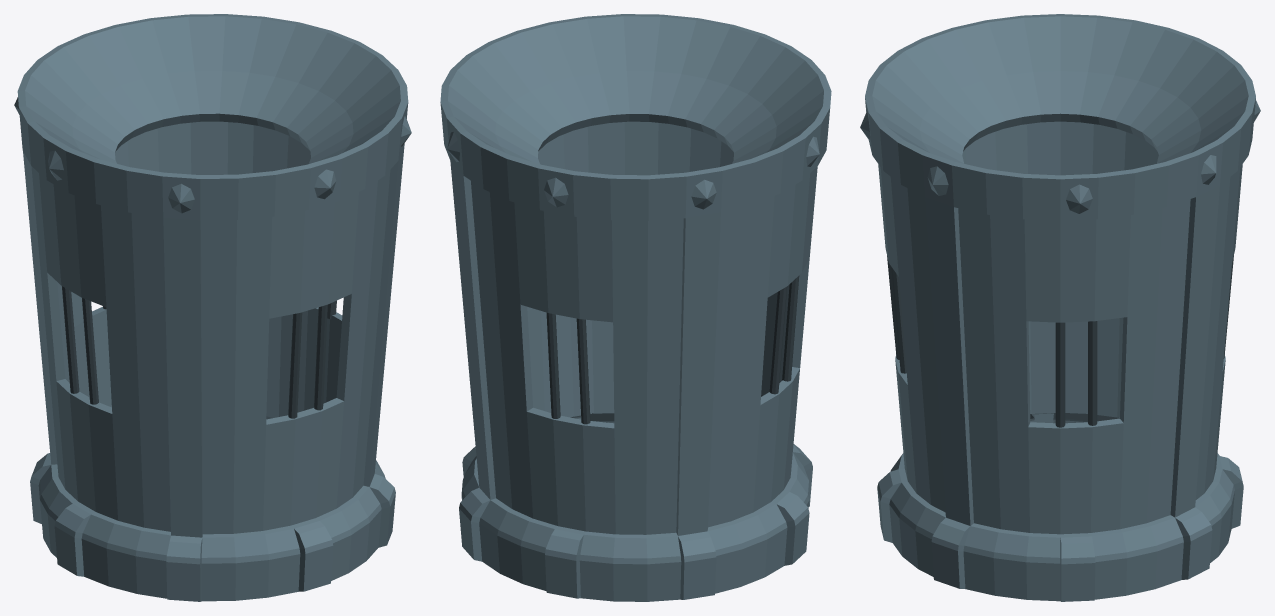
Rendered from muelleimer_gitter.fbx.
3 views of the same model, side by side, from view 1: azimuth 30°, elevation 25°; view 2: azimuth 150°, elevation 25°; view 3: azimuth 270°, elevation 25° (orthographic).
Visible parts, largest first — view 1: eimre_body, stab_r, stab_l; view 2: eimre_body, stab_l, stab_r; view 3: eimre_body, stab_r, stab_l.
Boxes of the visible parts, bbox=[...] form: eimre_body: bbox=[14, 14, 411, 601]; stab_r: bbox=[82, 298, 336, 410]; stab_l: bbox=[62, 286, 302, 418]; eimre_body: bbox=[440, 14, 831, 601]; stab_l: bbox=[546, 286, 787, 418]; stab_r: bbox=[576, 275, 799, 424]; eimre_body: bbox=[860, 14, 1260, 601]; stab_r: bbox=[891, 267, 1097, 425]; stab_l: bbox=[887, 256, 1233, 427].
Size of the model in its own units: 52 by 62 by 52.
